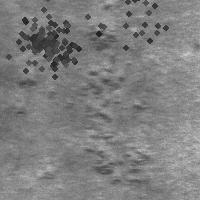rolled-in_scale: (14, 65, 153, 123), (4, 0, 98, 85), (37, 125, 150, 187), (75, 0, 189, 57), (11, 9, 67, 65), (84, 24, 119, 62)
